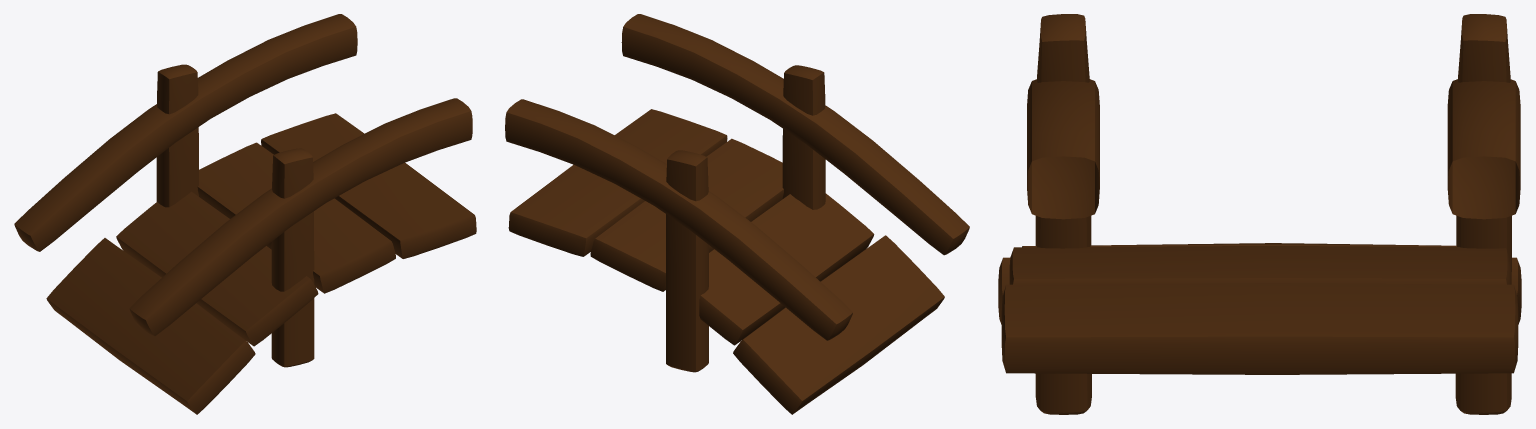
File: Bridge_Modular.fbx
The picture shows the model from 3 angles, left to right: view 1: azimuth 30°, elevation 25°; view 2: azimuth 150°, elevation 25°; view 3: azimuth 270°, elevation 25°; orthographic projection. The views are drawn at different scales.
Visible parts, largest first — view 1: Bridge_Modular; view 2: Bridge_Modular; view 3: Bridge_Modular.
Part boxes in pixels (x1=…): Bridge_Modular: x1=14, y1=14, x2=476, y2=414; Bridge_Modular: x1=505, y1=14, x2=969, y2=414; Bridge_Modular: x1=998, y1=14, x2=1521, y2=414.
Bounding box in the file's own units: 295 × 201 × 224.
